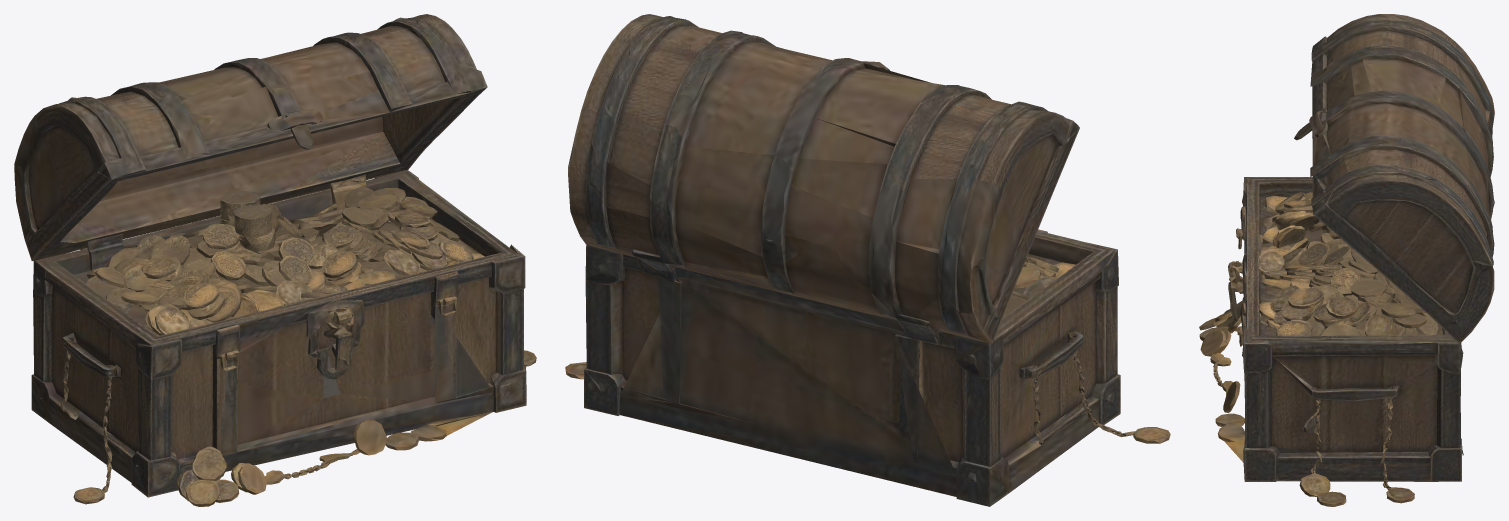
The model's file is forziere.glb.
The picture shows the model from 3 angles, left to right: view 1: azimuth 30°, elevation 25°; view 2: azimuth 150°, elevation 25°; view 3: azimuth 270°, elevation 25°; orthographic projection. The views are drawn at different scales.
Parts seen in each view (by area): view 1: Mesh_0; view 2: Mesh_0; view 3: Mesh_0.
Part boxes in pixels (x1=…): Mesh_0: x1=14, y1=14, x2=536, y2=506; Mesh_0: x1=565, y1=14, x2=1170, y2=506; Mesh_0: x1=1199, y1=14, x2=1494, y2=506.
Size of the model in its own units: 0.8 by 0.5161 by 0.4546.
1 material, 1 textured.
